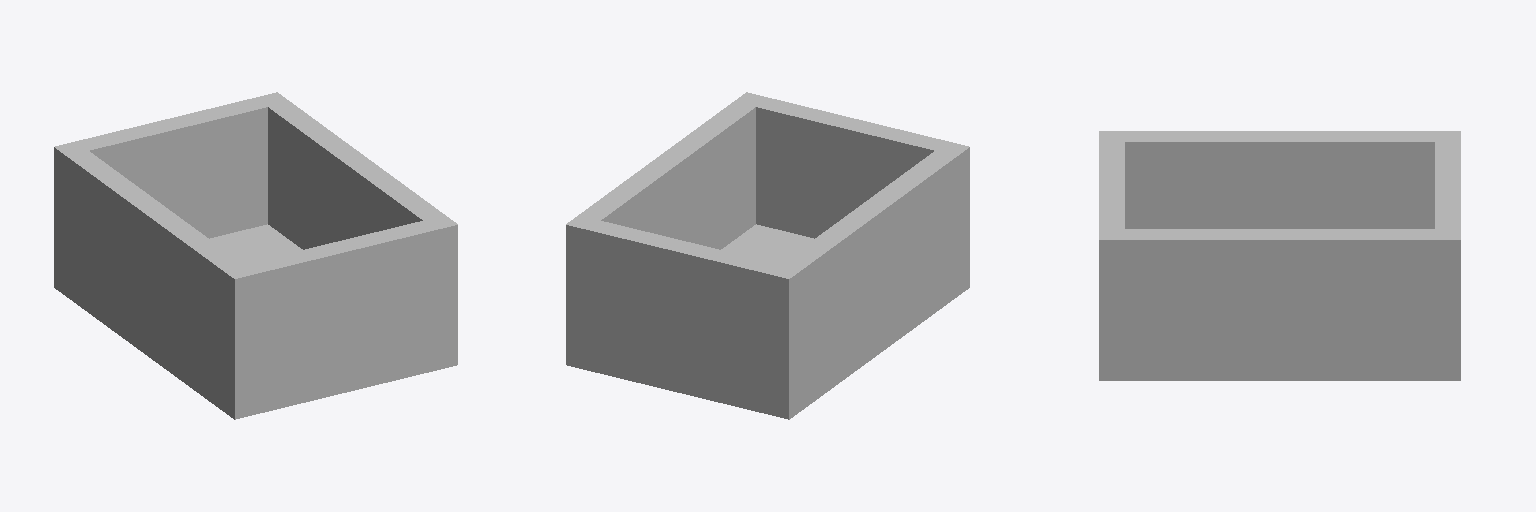
Rendered from cart.obj.
3 views of the same model, side by side, from view 1: azimuth 30°, elevation 25°; view 2: azimuth 150°, elevation 25°; view 3: azimuth 270°, elevation 25° (orthographic).
Parts seen in each view (by area): view 1: Cart; view 2: Cart; view 3: Cart.
Part boxes in pixels (left/top/right/bottom): Cart: left=54, top=92, right=457, bottom=419; Cart: left=566, top=92, right=969, bottom=419; Cart: left=1099, top=131, right=1460, bottom=380.
Size of the model in its own units: 1 by 0.6 by 1.4.